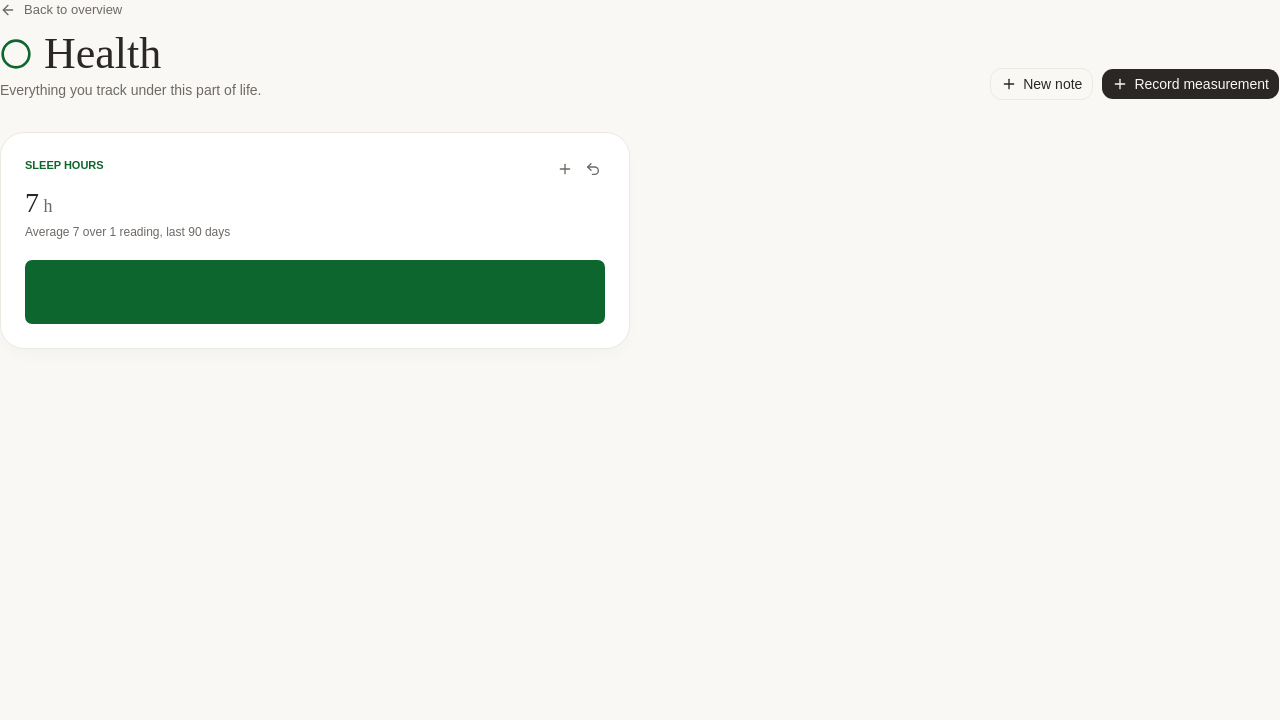
Test case: AreaPage › offers the area's existing series as keys, since no endpoint lists them
Click the button "Record measurement" at (1191, 84), box [1101,68,1279,100]
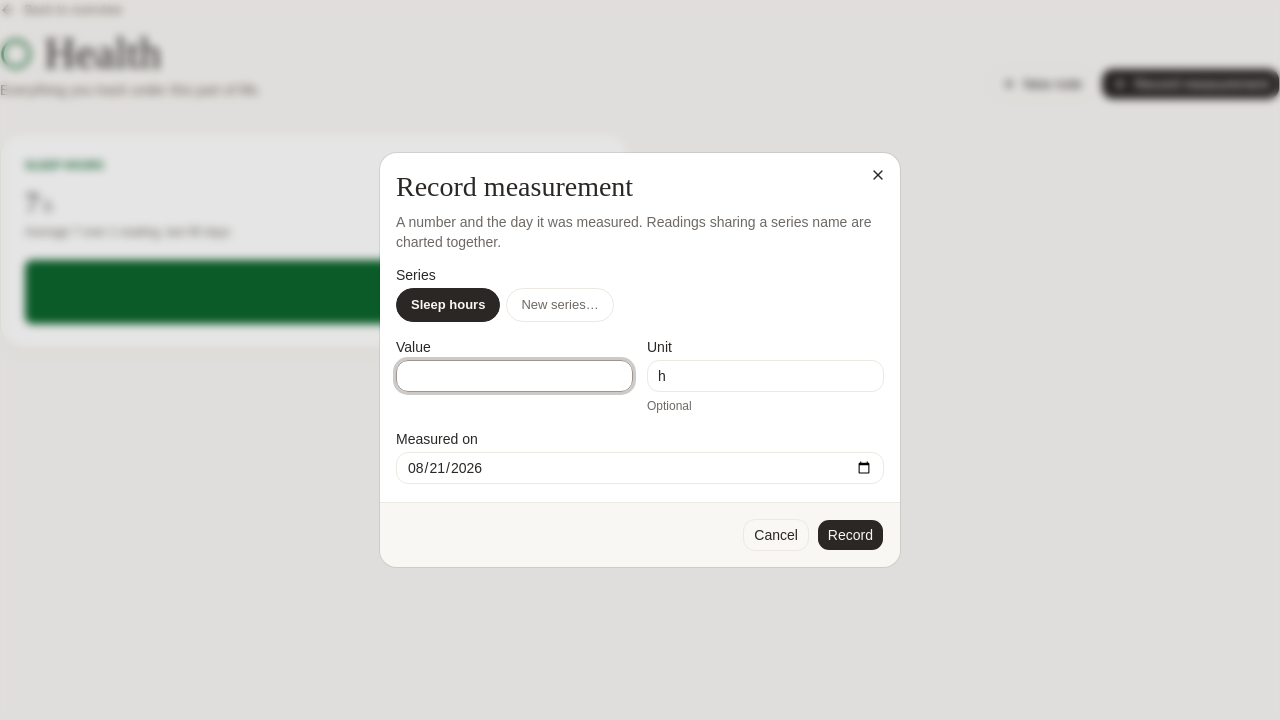
Result: the field labelled "Unit" holds "h" at [647,360,884,392]
